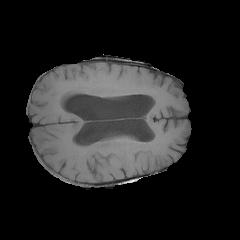glioma: (58, 78, 159, 109)
